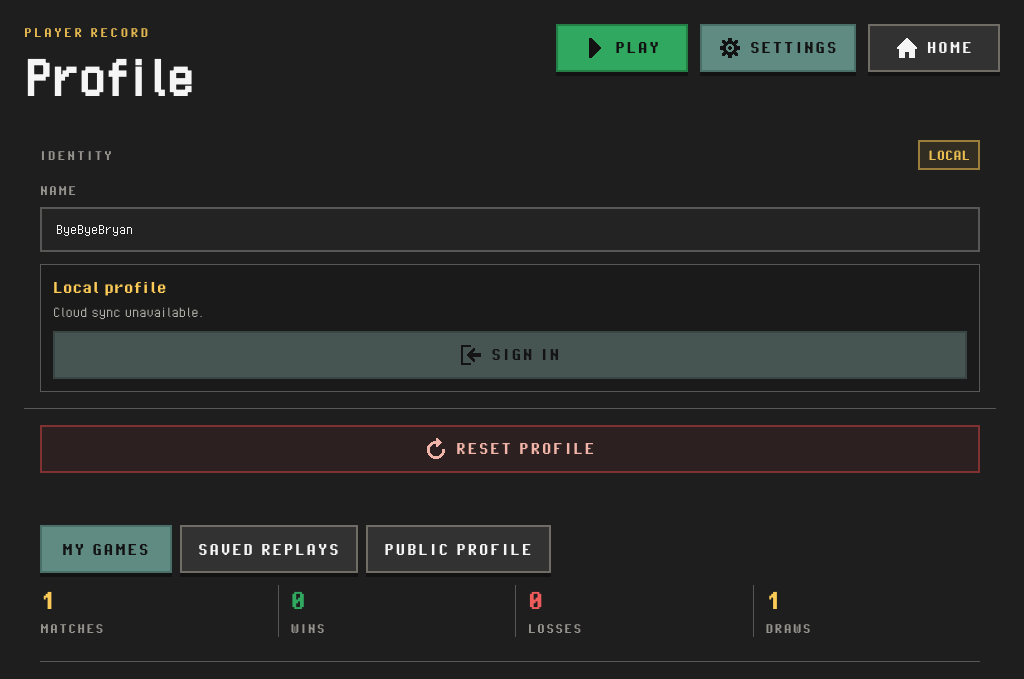
ProfileRoute cloud state › confirms before clearing local profile data
This screenshot has width=1024, height=679.
Expected: the field labelled "Name" holds "ByeByeBryan", [40,206,980,252]
Step 1. Click the button "Reset Profile" → [510, 449], box [40,425,980,473]
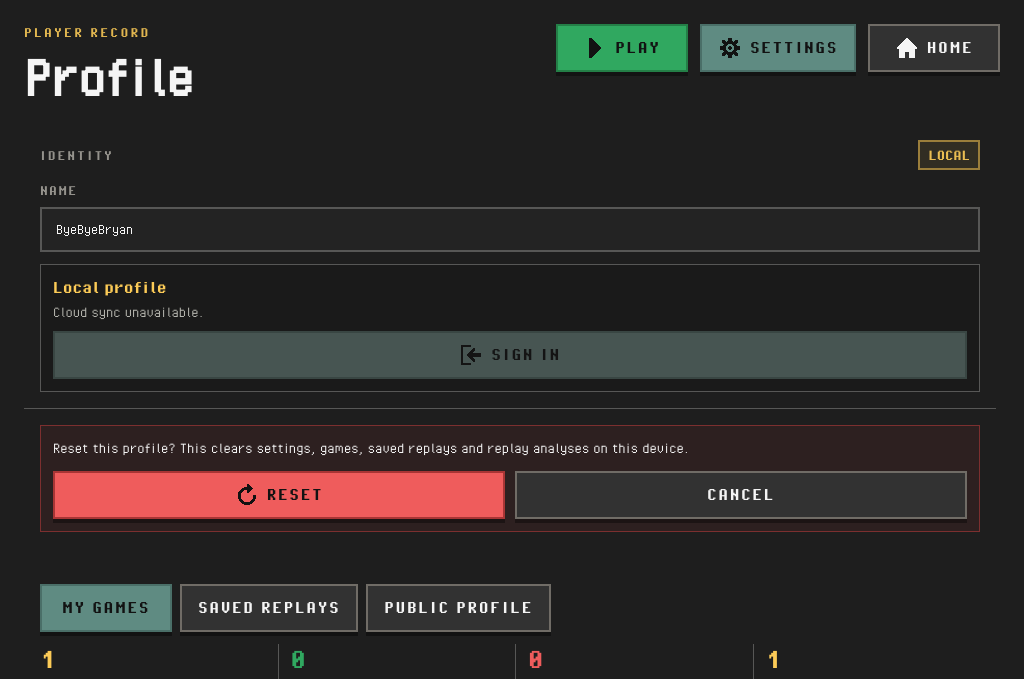
Expected: the text "Reset this profile? This clears settings, games, saved replays and replay analyses on this device." is shown, [53,439,689,456]
Step 2. Click the button "Cancel" → [741, 495], box [515,471,967,519]
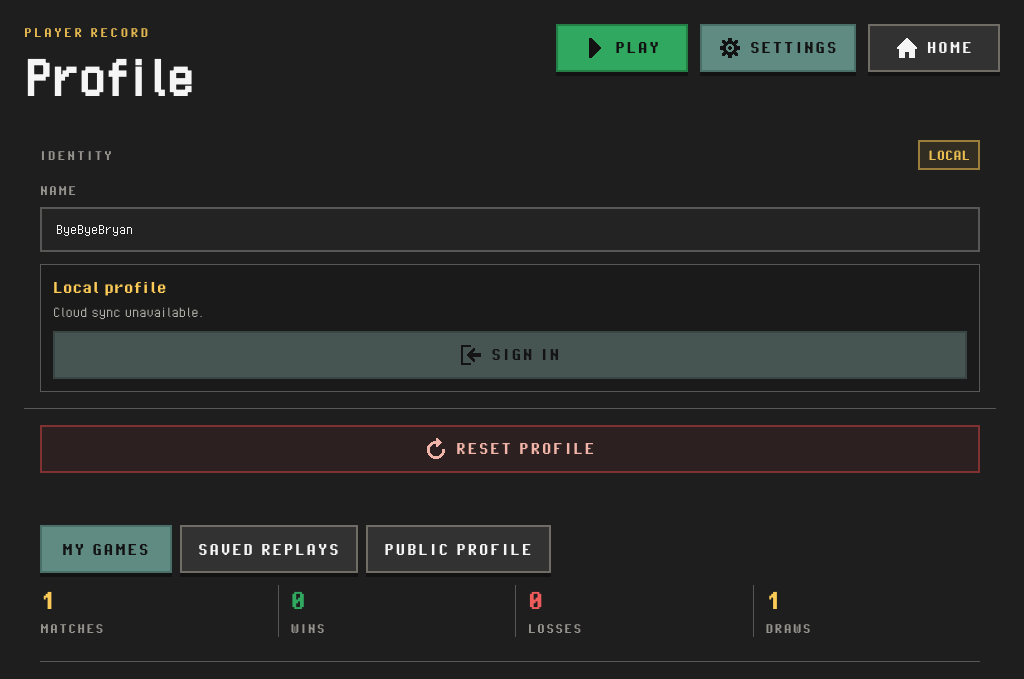
Expected: the field labelled "Name" holds "ByeByeBryan", [40,206,980,252]
Step 3. Click the button "Reset Profile" → [510, 449], box [40,425,980,473]
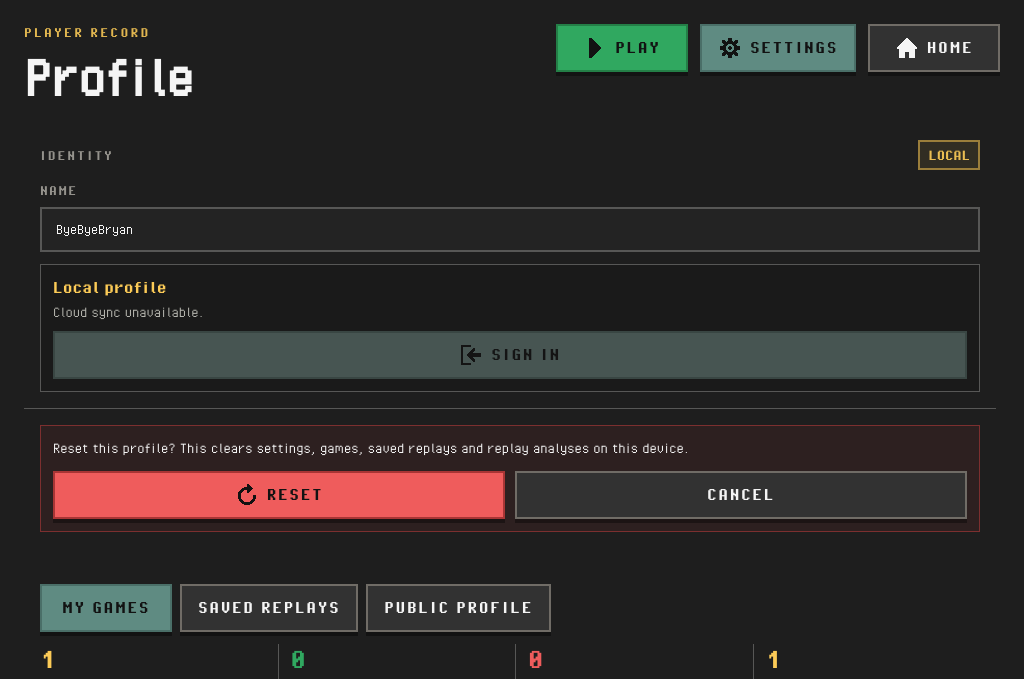
Step 4. Click the button "Reset" → [279, 495], box [53,471,505,519]
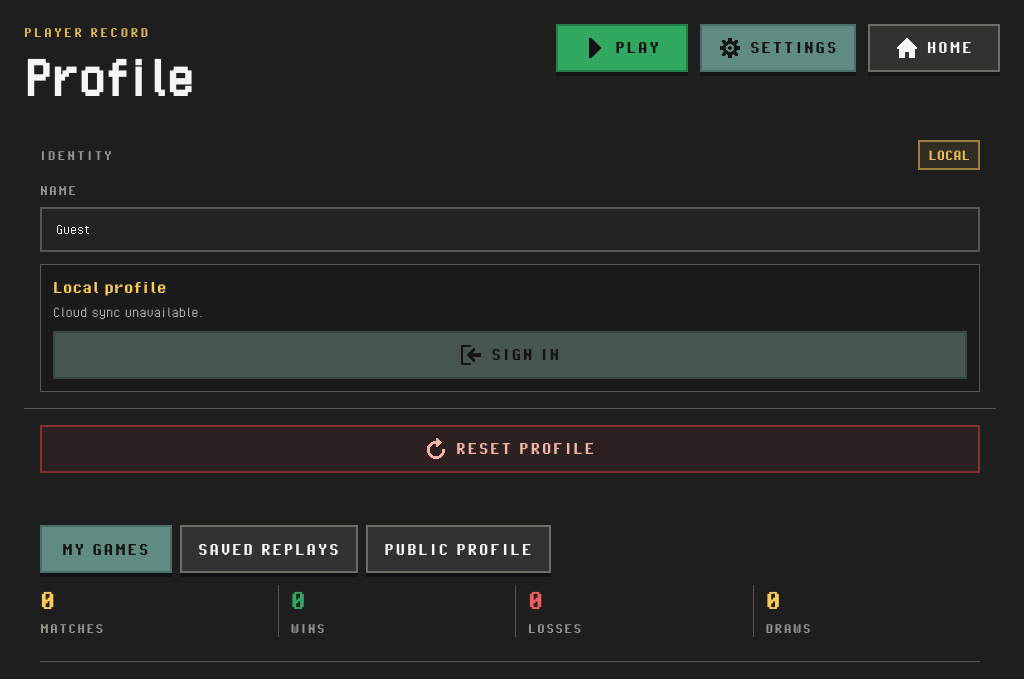
Expected: the field labelled "Name" holds "Guest", [40,206,980,252]
